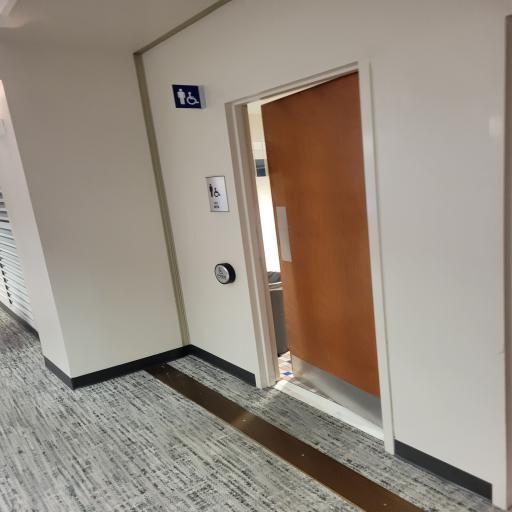door: (222, 62, 416, 436)
handicap push button: (208, 259, 239, 285)
men bathroom sign: (200, 164, 234, 214), (169, 81, 210, 112)
